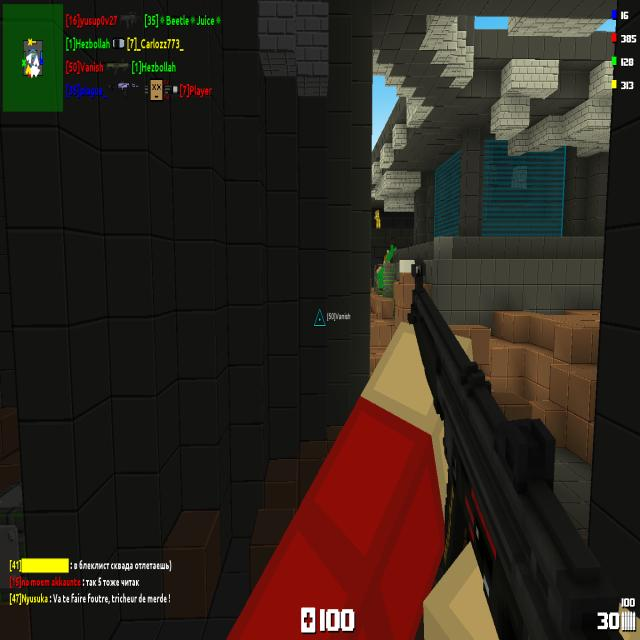enemy: (375, 264, 384, 291), (374, 209, 381, 229)
